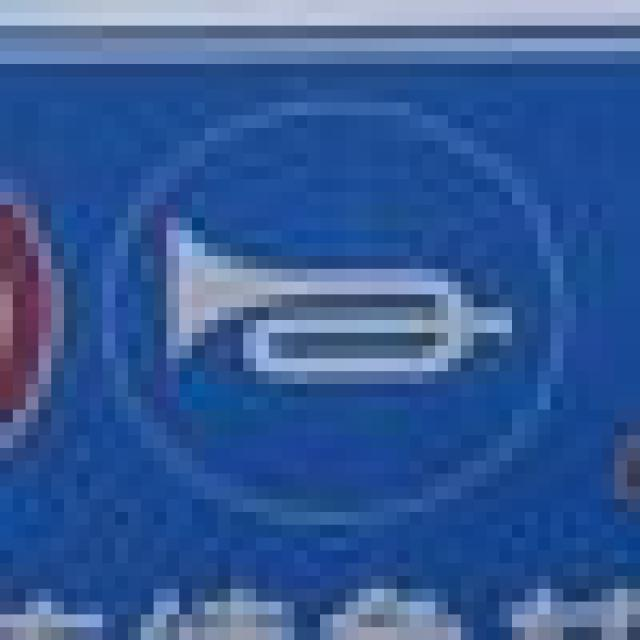compulsory_min_speed: (90, 90, 538, 499)
